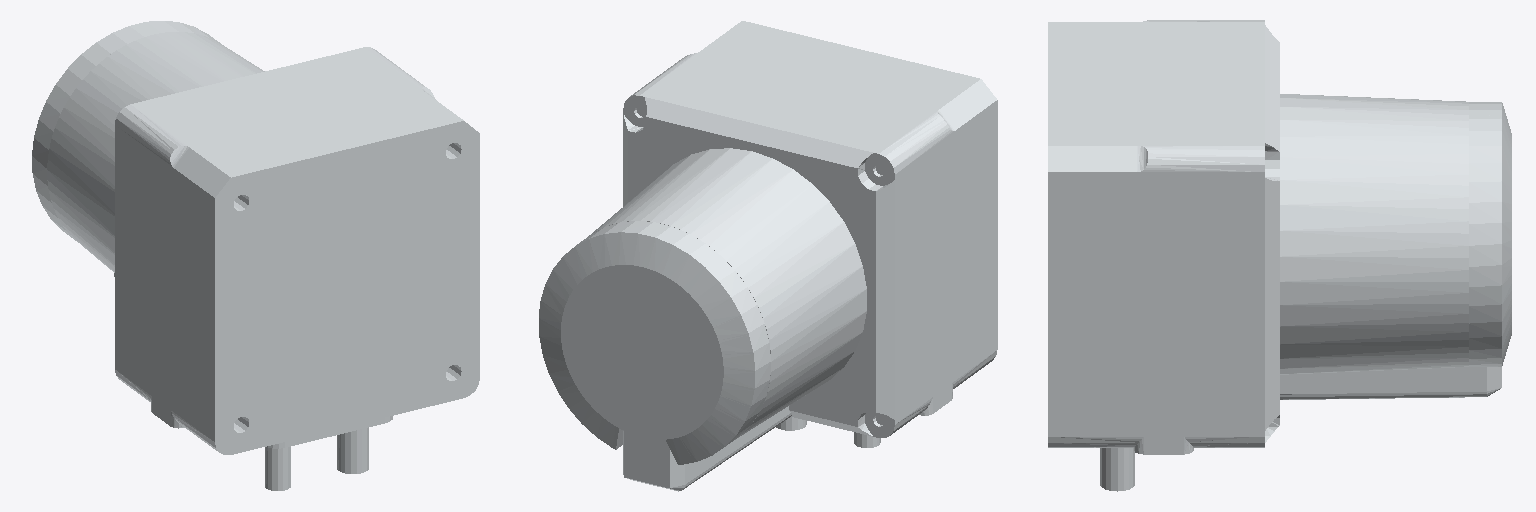
URDF robot description (ford):
<?xml version = "1.0" ?>
<robot
  name="ford">
  
   <link name="base_footprint"></link>

 
  <link
    name="frontlidar">
    <inertial>
      <origin
        xyz="3.96242181061046E-06 0.0297127391537713 -0.000648809548592366"
        rpy="0 0 0" />
      <mass
        value="0.367833721247089" />
      <inertia
        ixx="0.000205756604787201"
        ixy="2.78900753044071E-08"
        ixz="4.74805380670418E-08"
        iyy="0.000127405862881745"
        iyz="1.04061737415867E-06"
        izz="0.000200365232614641" />
    </inertial>
    <visual>
      <origin
        xyz="0 0 0"
        rpy="0 0 0" />
      <geometry>
        <mesh
          filename="package://sdv_description/urdf/meshes/lidar.STL" />
      </geometry>
      <material
        name="">
        <color
          rgba="0.898039215686275 0.917647058823529 0.929411764705882 1" />
      </material>
    </visual>
    <collision>
      <origin
        xyz="0 0 0"
        rpy="0 0 0" />
      <geometry>
        <mesh
          filename="package://sdv_description/urdf/meshes/lidar.STL" />
      </geometry>
    </collision>
  </link>

  <joint
    name="lidar_h"
    type="continuous">
    <origin
      xyz="0.4125 0 0"
      rpy="0 0 0" />
    <parent
      link="base_footprint" />
    <child
      link="frontlidar" />
    <axis
      xyz="1 0 0" />
  </joint>






</robot>

--- Facts derived from the render (not from the file) ---
Views: 3 orthographic renders of the robot side by side, from view 1: azimuth 30°, elevation 25°; view 2: azimuth 150°, elevation 25°; view 3: azimuth 270°, elevation 25°.
Robot: ford — 2 links, 1 joints (1 continuous); root link base_footprint; default pose: every joint at zero.
Visible links, largest first — view 1: frontlidar; view 2: frontlidar; view 3: frontlidar.
Link boxes in pixels (x1,y1,x2,y2): frontlidar: [32, 21, 479, 490]; frontlidar: [539, 21, 997, 491]; frontlidar: [1048, 20, 1511, 491].
Size in the robot's own frame: 0.05 by 0.07 by 0.0632 metres.
Meshes: 1 distinct files referenced, 1 mesh visuals loaded (1 binary STL).
